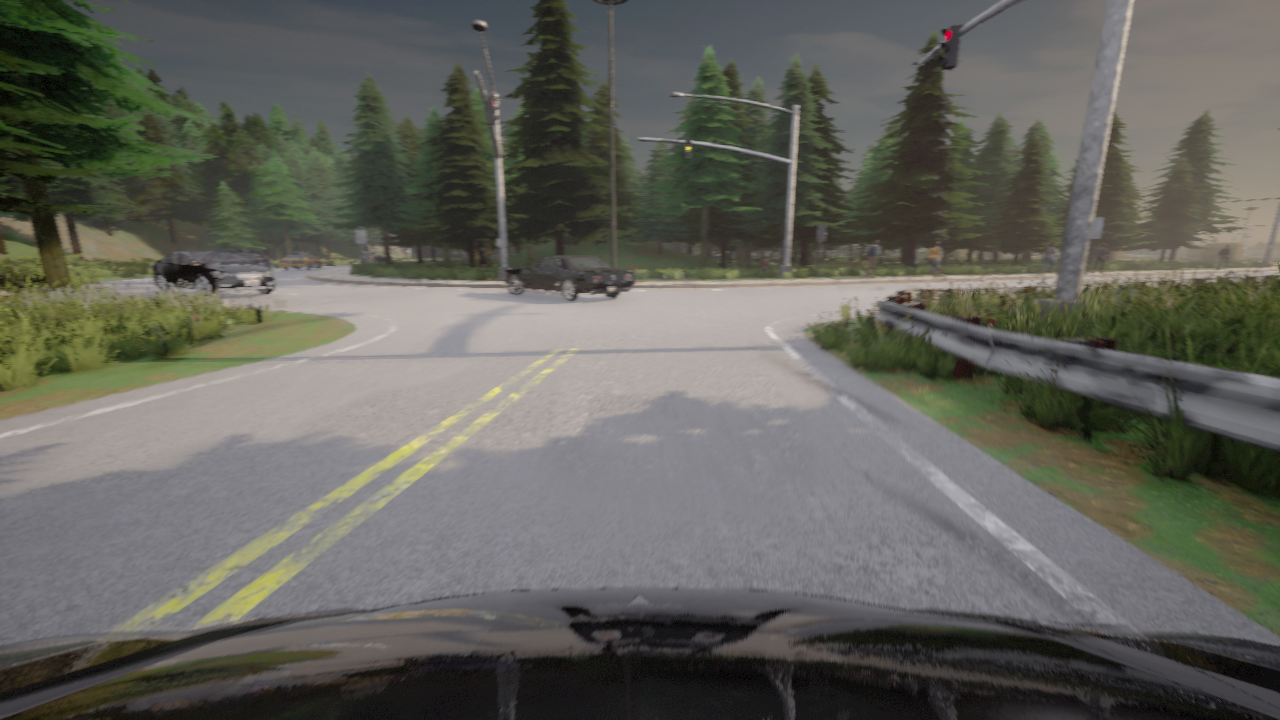cyclist: (0, 588, 1279, 719), (503, 256, 635, 301), (152, 250, 275, 297), (229, 249, 273, 274), (280, 251, 321, 270), (359, 252, 392, 264), (463, 252, 468, 260)
pedestrian: (865, 240, 882, 279), (926, 242, 941, 276), (1041, 243, 1056, 274), (1092, 243, 1106, 273), (1218, 245, 1230, 269), (760, 255, 768, 281), (861, 257, 869, 278)
